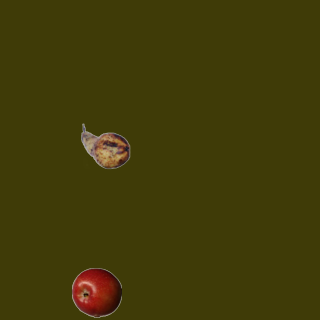Apple Braeburn: (71, 267, 121, 317)
Pear Abate: (80, 121, 130, 171)
